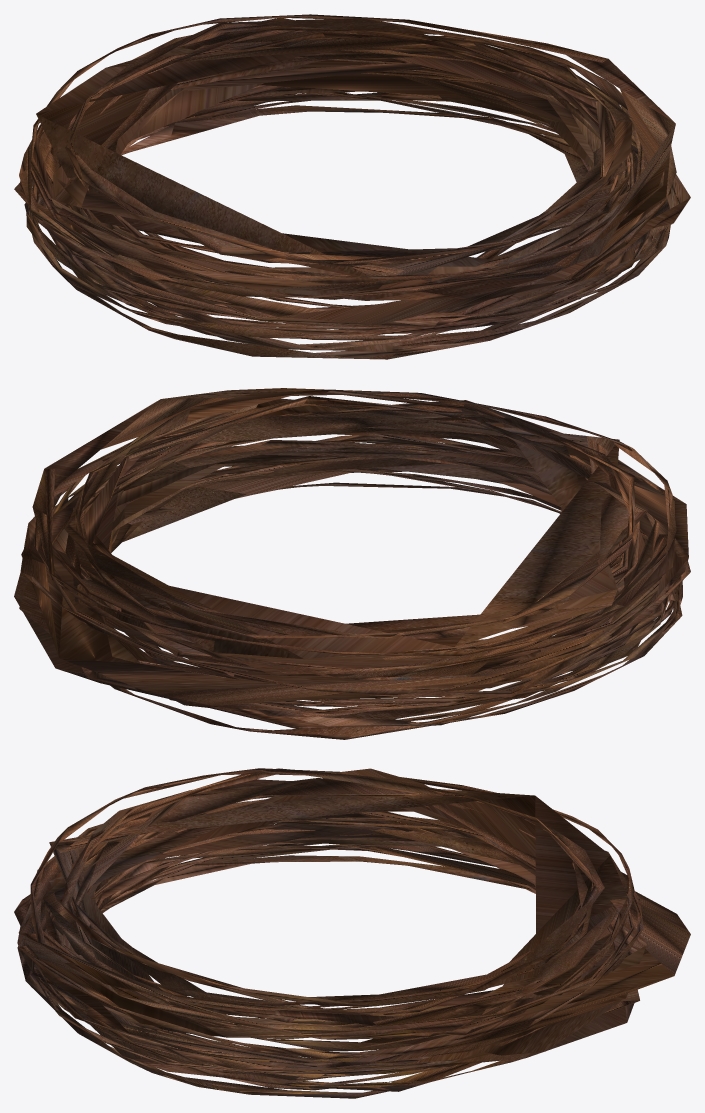
The model's file is EST-ARA-001.glb.
The picture shows the model from 3 angles, top to bottom: view 1: azimuth 30°, elevation 25°; view 2: azimuth 150°, elevation 25°; view 3: azimuth 270°, elevation 25°; orthographic projection. The views are drawn at different scales.
Visible parts, largest first — view 1: Arame recozido nº 18 (1 kg); view 2: Arame recozido nº 18 (1 kg); view 3: Arame recozido nº 18 (1 kg).
Part boxes in pixels (x1,y1,x2,y2): Arame recozido nº 18 (1 kg): (14, 14, 690, 359); Arame recozido nº 18 (1 kg): (14, 388, 690, 739); Arame recozido nº 18 (1 kg): (14, 768, 690, 1098).
Bounding box in the file's own units: 0.2438 × 0.0387 × 0.2628.
Materials: 1 (1 with a texture image).
